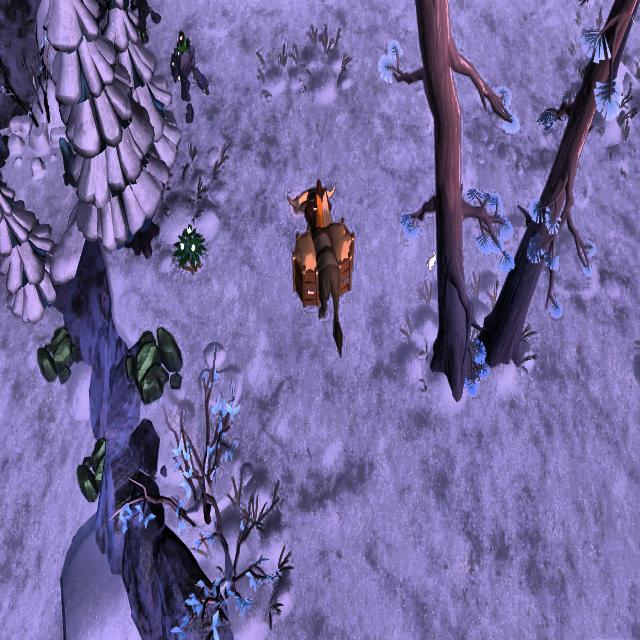fiber_t3: (174, 226, 206, 273)
rock_t3: (126, 317, 184, 404), (34, 322, 80, 388), (72, 435, 110, 505)
